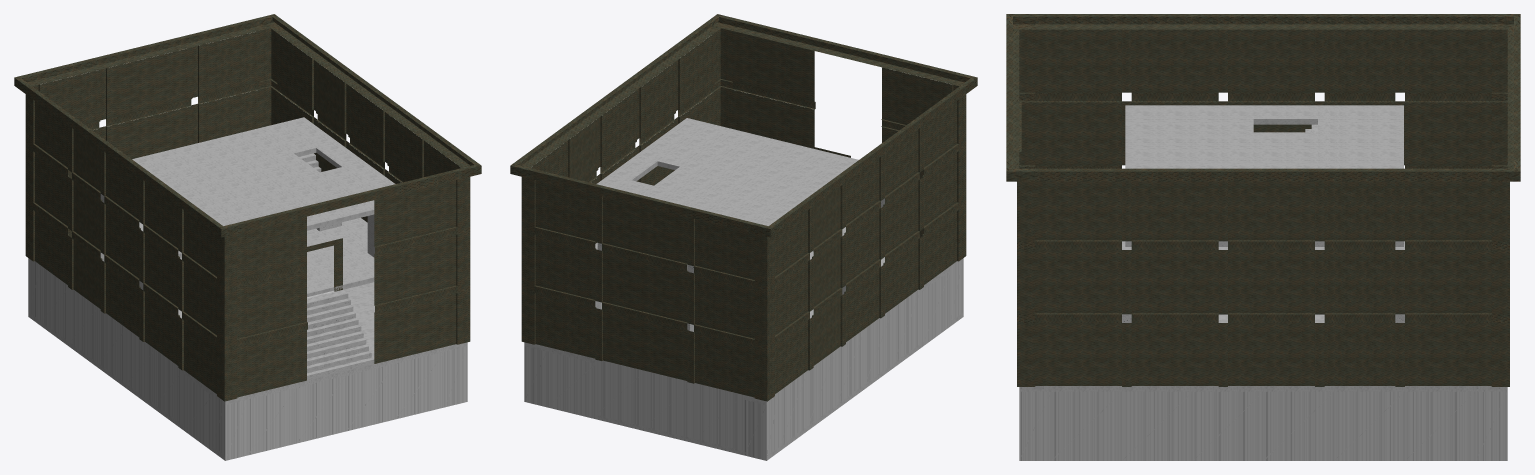
The model's file is MasterUnity.fbx.
3 views of the same model, side by side, from view 1: azimuth 30°, elevation 25°; view 2: azimuth 150°, elevation 25°; view 3: azimuth 270°, elevation 25° (orthographic). The views are drawn at different scales.
Parts seen in each view (by area): view 1: MasterPiece; view 2: MasterPiece; view 3: MasterPiece.
Boxes of the visible parts, x1,y1,x2,y2 form: MasterPiece: (14, 14, 481, 460); MasterPiece: (510, 14, 977, 460); MasterPiece: (1006, 14, 1520, 460).
Size of the model in its own units: 11.6 by 10.13 by 16.
Materials: 2 (2 with a texture image).
